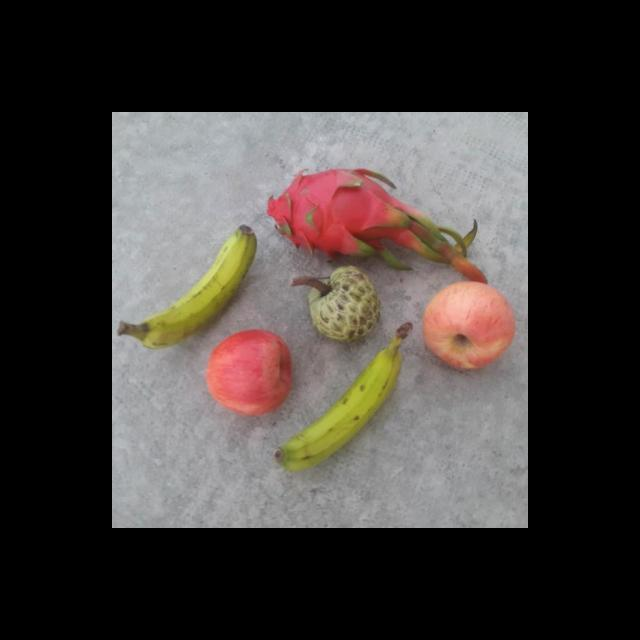Sakya fruit: (306, 264, 380, 344)
apple: (420, 280, 516, 376), (204, 328, 296, 418)
banana: (268, 316, 420, 474), (113, 224, 259, 363)
pitaya: (268, 166, 407, 268)
